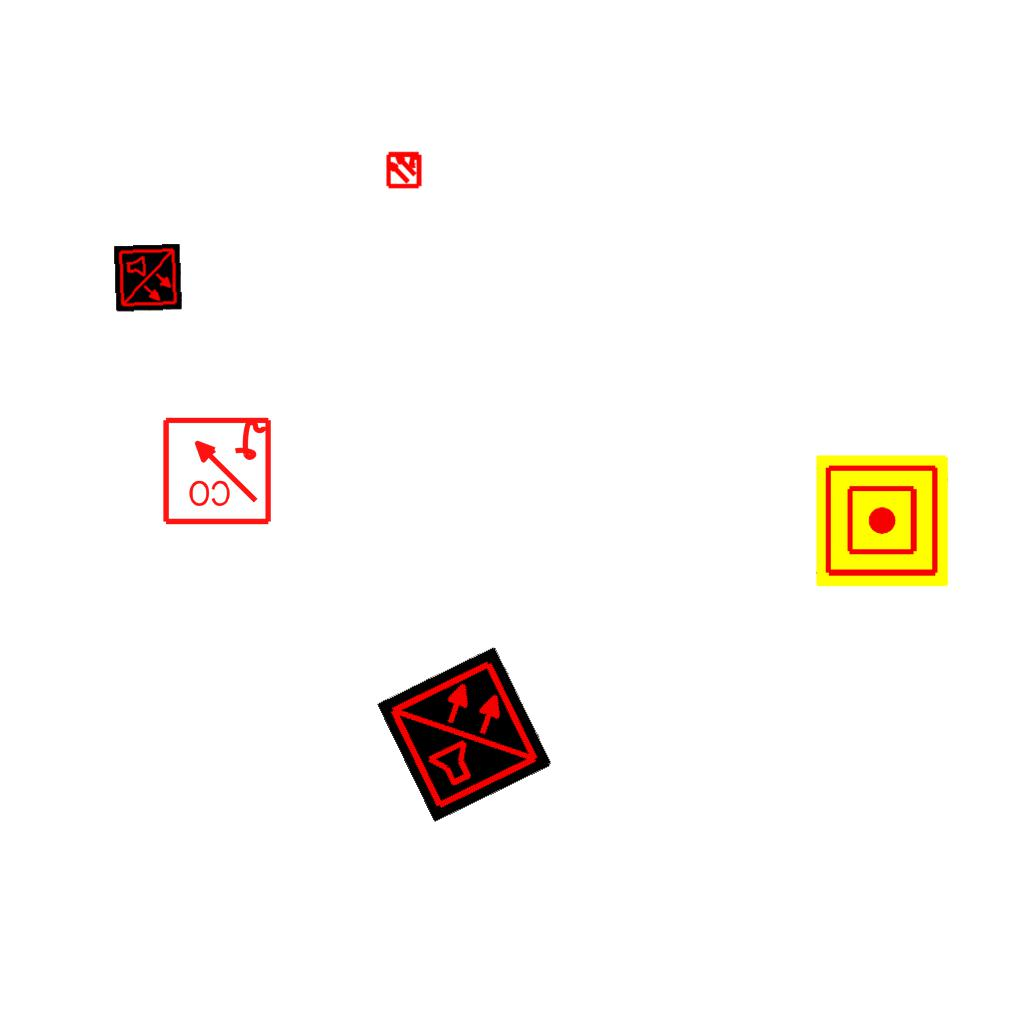NAM-Nichtautomatischer_Melder: (816, 455, 948, 587)
OKW_Multisensormelder_(Kombination_optischer_Rauch-Kahlenmonoxid_Waerme-Melder): (376, 645, 554, 823), (113, 243, 183, 313)
OT_Multisensormelder_(Kombination_RMO_WMD): (376, 141, 432, 197)
ROA_Rauchmelder_optisch_mit_Signalgeber_(Sockelsirene): (160, 413, 273, 526)
